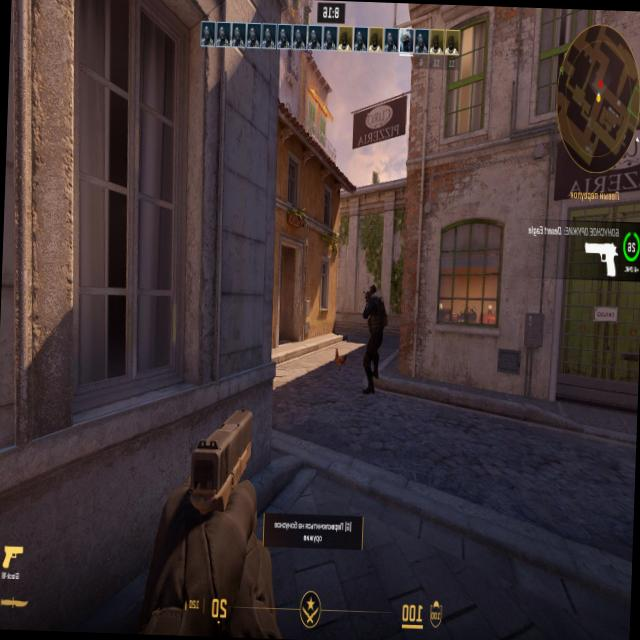CT: (364, 284, 383, 373)
CT_heat: (369, 288, 374, 301)
